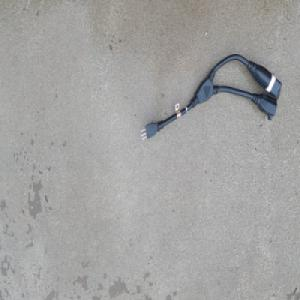Wire: (139, 53, 283, 142)
